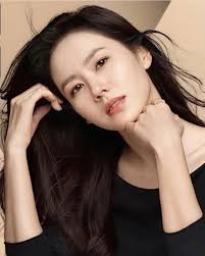face: (55, 36, 145, 128)
